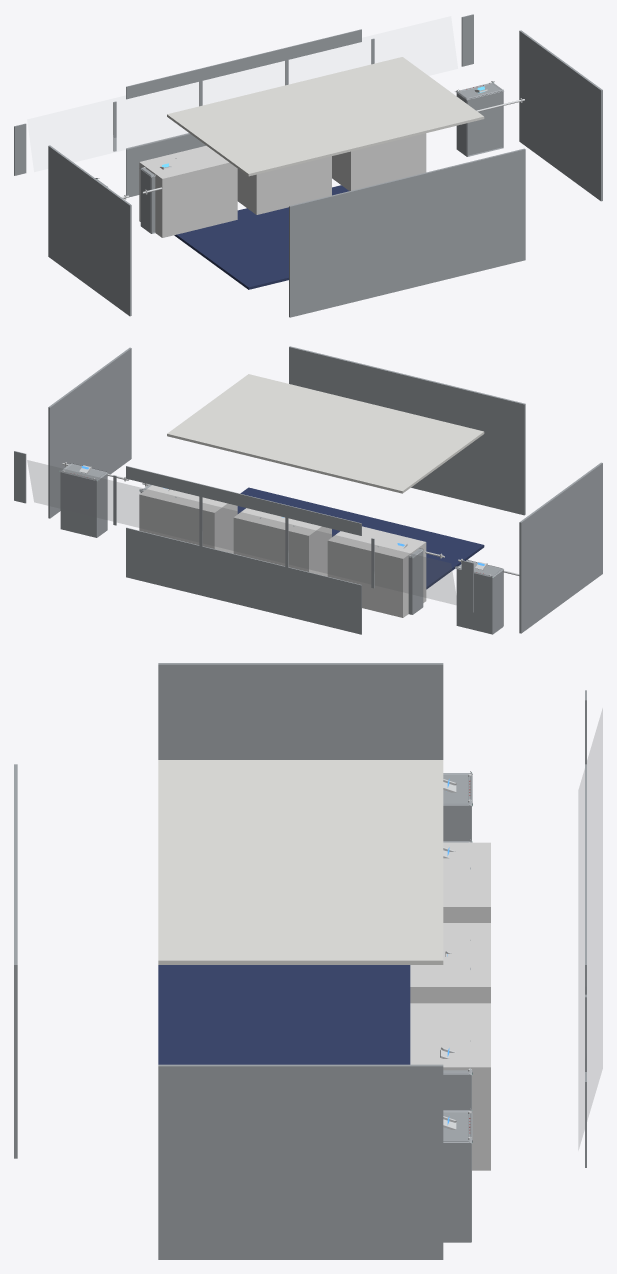
The model's file is BridgeVR_HardSurface_v1.0.glb.
3 views of the same model, one above another, from view 1: azimuth 30°, elevation 25°; view 2: azimuth 150°, elevation 25°; view 3: azimuth 270°, elevation 25° (orthographic). The views are drawn at different scales.
Parts seen in each view (by area): view 1: WH_AftBulkhead, WH_Ceiling, REF_FrontWindow_Plane, WH_SideWall_PORT, WH_SideWall_STBD, WH_FrontBulkhead, REF_Console_ECDIS_envelope, WH_Deck, REF_Console_Helm_envelope, REF_Console_Radar_envelope, RADAR_STBD_FAR_PanelBase, ECDIS_PORT_PanelBase; view 2: WH_Ceiling, WH_FrontBulkhead, WH_AftBulkhead, REF_FrontWindow_Plane, WH_SideWall_PORT, WH_SideWall_STBD, REF_Console_ECDIS_envelope, REF_Console_Helm_envelope, REF_Console_Radar_envelope, WH_Deck, RADAR_STBD_FAR_PanelBase, ECDIS_PORT_FAR_PanelBase (+1 smaller); view 3: WH_Ceiling, WH_SideWall_STBD, WH_SideWall_PORT, WH_Deck, REF_Console_Radar_envelope, REF_FrontWindow_Plane, REF_Console_Helm_envelope, REF_Console_ECDIS_envelope, RADAR_STBD_FAR_PanelBase, ECDIS_PORT_FAR_PanelBase, WH_AftBulkhead, RADAR_STBD_PanelBase (+1 smaller).
Part boxes in pixels (<box>): WH_AftBulkhead: <box>289,148,525,317</box>; WH_Ceiling: <box>167,57,484,176</box>; REF_FrontWindow_Plane: <box>28,17,457,171</box>; WH_SideWall_PORT: <box>48,145,131,316</box>; WH_SideWall_STBD: <box>519,30,602,201</box>; WH_FrontBulkhead: <box>14,14,473,197</box>; REF_Console_ECDIS_envelope: <box>139,145,237,237</box>; WH_Deck: <box>174,185,349,289</box>; REF_Console_Helm_envelope: <box>237,156,331,214</box>; REF_Console_Radar_envelope: <box>332,133,426,190</box>; RADAR_STBD_FAR_PanelBase: <box>455,81,503,156</box>; ECDIS_PORT_PanelBase: <box>139,158,176,233</box>; WH_Ceiling: <box>167,374,484,493</box>; WH_FrontBulkhead: <box>14,451,473,634</box>; WH_AftBulkhead: <box>289,346,525,515</box>; REF_FrontWindow_Plane: <box>28,461,457,604</box>; WH_SideWall_PORT: <box>519,462,602,633</box>; WH_SideWall_STBD: <box>48,347,131,518</box>; REF_Console_ECDIS_envelope: <box>327,526,426,617</box>; REF_Console_Helm_envelope: <box>233,508,331,576</box>; REF_Console_Radar_envelope: <box>139,485,237,553</box>; WH_Deck: <box>237,487,484,589</box>; RADAR_STBD_FAR_PanelBase: <box>59,463,108,537</box>; ECDIS_PORT_FAR_PanelBase: <box>455,559,503,634</box>; WH_Ceiling: <box>158,760,443,964</box>; WH_SideWall_STBD: <box>158,1064,443,1259</box>; WH_SideWall_PORT: <box>158,663,443,759</box>; WH_Deck: <box>158,965,410,1064</box>; REF_Console_Radar_envelope: <box>410,1003,490,1170</box>; REF_FrontWindow_Plane: <box>579,710,602,1145</box>; REF_Console_Helm_envelope: <box>410,923,490,1003</box>; REF_Console_ECDIS_envelope: <box>443,842,490,922</box>; RADAR_STBD_FAR_PanelBase: <box>443,1108,472,1242</box>; ECDIS_PORT_FAR_PanelBase: <box>443,771,472,841</box>; WH_AftBulkhead: <box>14,764,17,1158</box>; RADAR_STBD_PanelBase: <box>443,1040,472,1110</box>.
Bounding box in the file's own units: 10.04 × 2.35 × 6.2.
